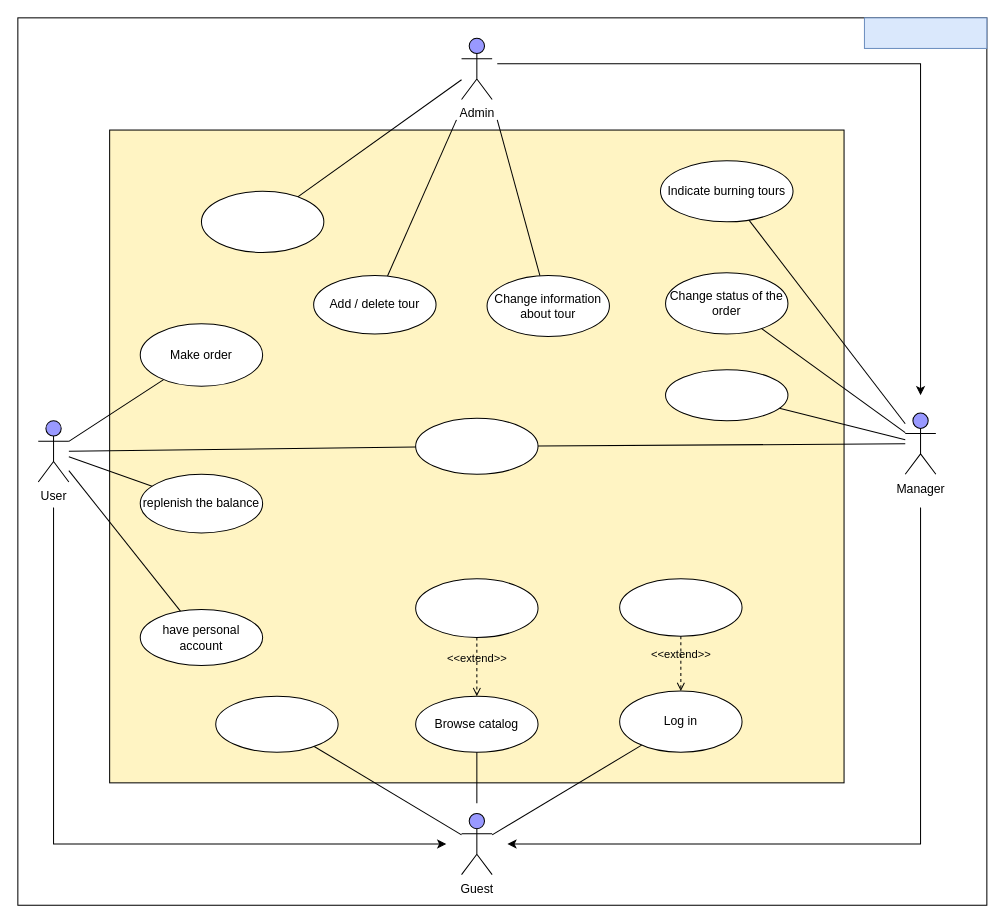
Image size: 1005x923. Some labels were removed from this diagram. The shapes that lost their labels are listed below. From the top down, each one's centre as x and y in pixels, then its label:
(925,32): Travel agency
(262,221): Block / unblock user
(726,395): Set discount info
(476,445): Log out
(476,608): Filter and sort catalog
(680,607): Register an acount
(276,723): See tour details
